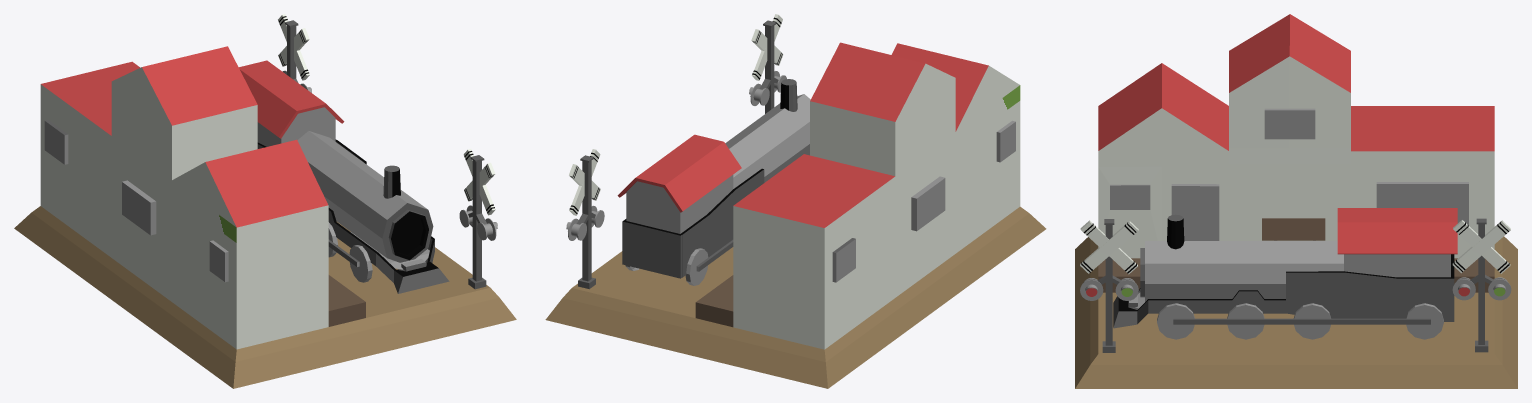
Rendered from train_station_var3_withCrossSignsmodel.fbx.
3 views of the same model, side by side, from view 1: azimuth 30°, elevation 25°; view 2: azimuth 150°, elevation 25°; view 3: azimuth 270°, elevation 25° (orthographic).
Visible parts, largest first — view 1: pCube19; view 2: pCube19; view 3: pCube19.
Part boxes in pixels (<box>): pCube19: <box>14,14,516,388</box>; pCube19: <box>545,14,1046,388</box>; pCube19: <box>1075,14,1517,388</box>.
Size of the model in its own units: 10.31 by 8.35 by 13.81.
